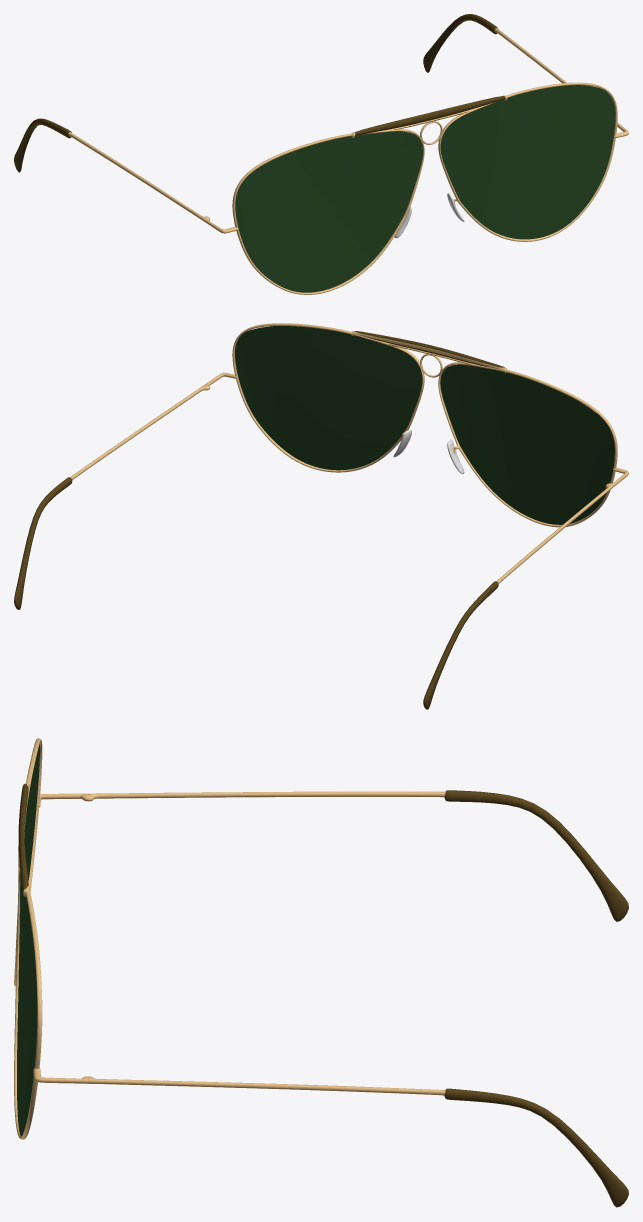
File: oversized_glasses2.fbx
The picture shows the model from 3 angles, top to bottom: view 1: azimuth 30°, elevation 25°; view 2: azimuth 150°, elevation 25°; view 3: azimuth 270°, elevation 25°; orthographic projection. The views are drawn at different scales.
Visible parts, largest first — view 1: Cube.008, Cube.006, Cube.009, Cube.003; view 2: Cube.008, Cube.009, Cube.006, Cube.003; view 3: Cube.009, Cube.008, Cube.006, Cube.003.
Part boxes in pixels (bbox=[...]): Cube.008: bbox=[235, 85, 615, 292]; Cube.006: bbox=[232, 82, 617, 294]; Cube.009: bbox=[14, 14, 628, 233]; Cube.003: bbox=[351, 95, 507, 137]; Cube.008: bbox=[235, 326, 614, 524]; Cube.009: bbox=[14, 372, 628, 709]; Cube.006: bbox=[232, 323, 617, 527]; Cube.003: bbox=[351, 331, 507, 373]; Cube.009: bbox=[33, 790, 628, 1207]; Cube.008: bbox=[17, 743, 39, 1136]; Cube.006: bbox=[14, 738, 42, 1139]; Cube.003: bbox=[18, 783, 29, 896].
Bounding box in the file's own units: 132 × 47.25 × 113.
